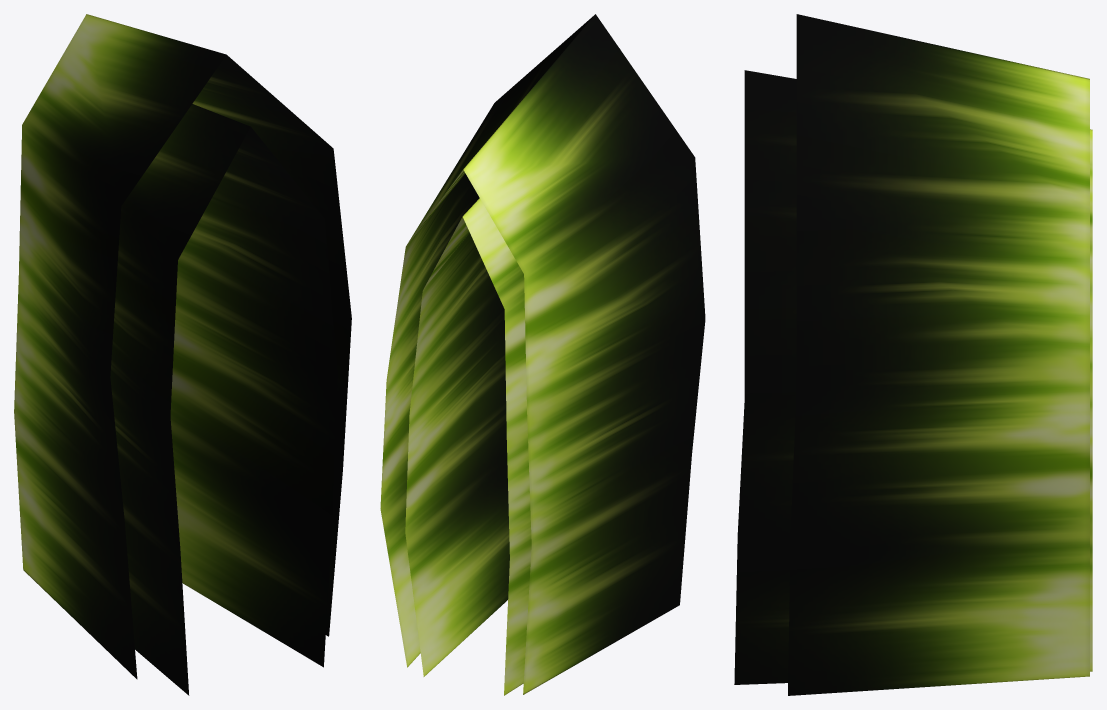
The model's file is fx_fbx_damen1_1.FBX.
3 views of the same model, side by side, from view 1: azimuth 30°, elevation 25°; view 2: azimuth 150°, elevation 25°; view 3: azimuth 270°, elevation 25° (orthographic). The views are drawn at different scales.
Parts seen in each view (by area): view 1: Box002; view 2: Box002; view 3: Box002.
Part boxes in pixels (<box>): Box002: <box>14,14,351,695</box>; Box002: <box>380,14,705,695</box>; Box002: <box>734,14,1092,695</box>.
Bounding box in the file's own units: 261 × 320 × 628.
